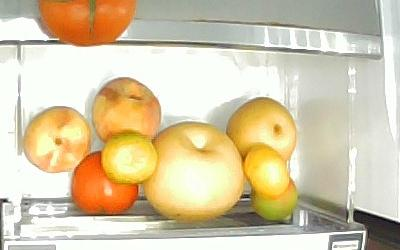peach: (90, 75, 162, 144), (22, 104, 91, 174)
pear: (140, 120, 245, 220), (225, 95, 297, 166)
tangerine: (99, 130, 158, 184), (241, 142, 290, 197)
tomato: (70, 148, 139, 215), (249, 175, 298, 220)
